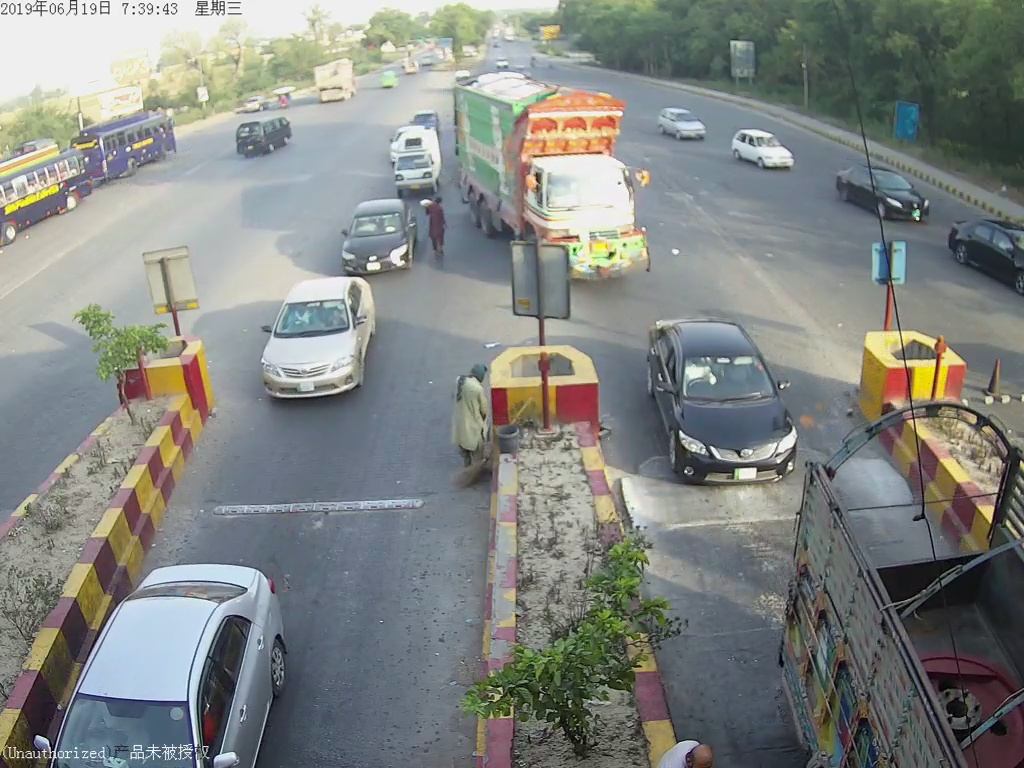Cat-1: (645, 315, 802, 490), (258, 273, 375, 398), (338, 203, 414, 271), (387, 110, 443, 196)
Cat-4: (455, 81, 658, 247)
